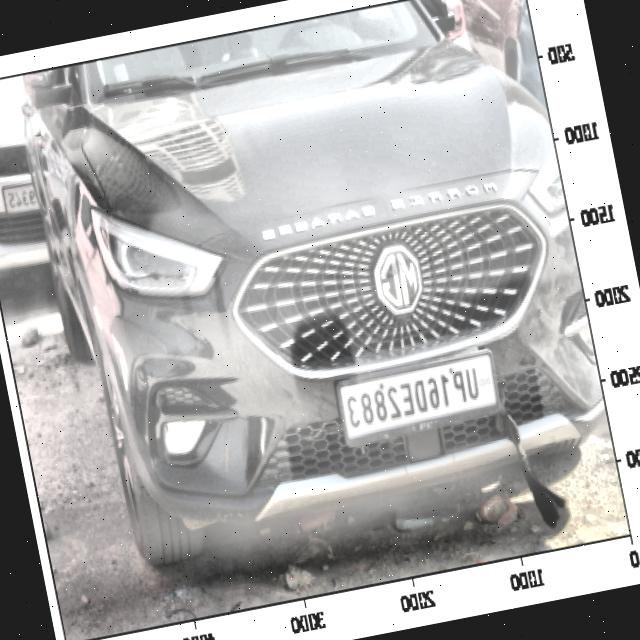license_plate: (337, 354, 490, 441)
